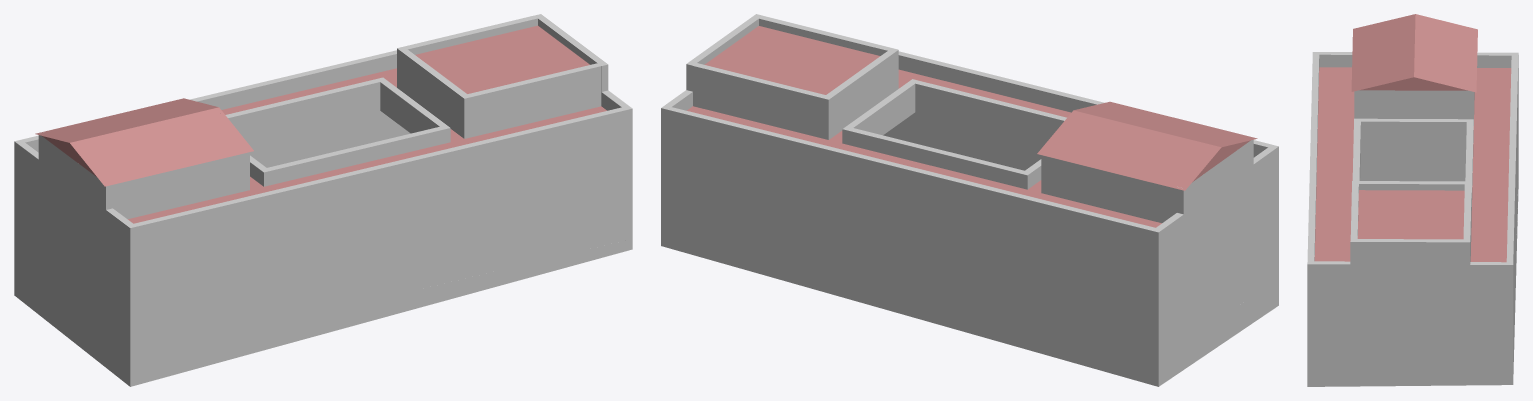
File: LOD_Block_0_57.glb
The picture shows the model from 3 angles, left to right: view 1: azimuth 30°, elevation 25°; view 2: azimuth 150°, elevation 25°; view 3: azimuth 270°, elevation 25°; orthographic projection. The views are drawn at different scales.
Visible parts, largest first — view 1: mesh_CityEngineMaterial_847; view 2: mesh_CityEngineMaterial_847; view 3: mesh_CityEngineMaterial_847.
Boxes of the visible parts, left/top/right/bottom form: mesh_CityEngineMaterial_847: left=14, top=14, right=632, bottom=386; mesh_CityEngineMaterial_847: left=661, top=14, right=1278, bottom=386; mesh_CityEngineMaterial_847: left=1307, top=14, right=1518, bottom=386.
Bounding box in the file's own units: 36.81 × 14.06 × 15.33.
